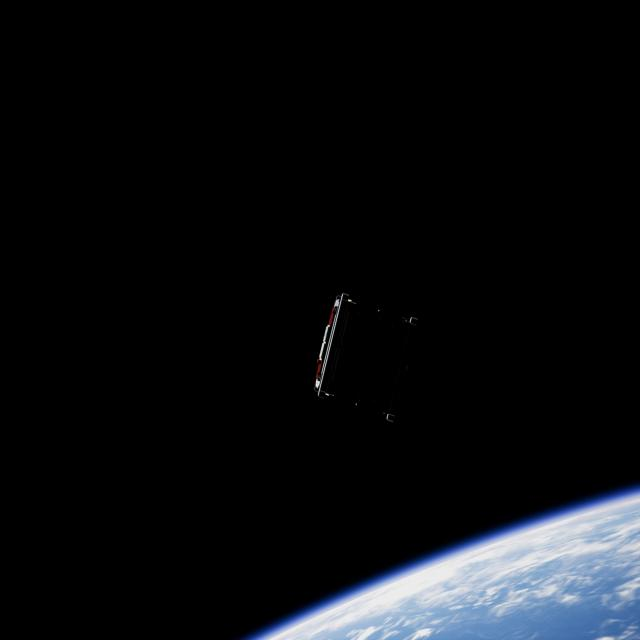satellite: (311, 289, 434, 428)
